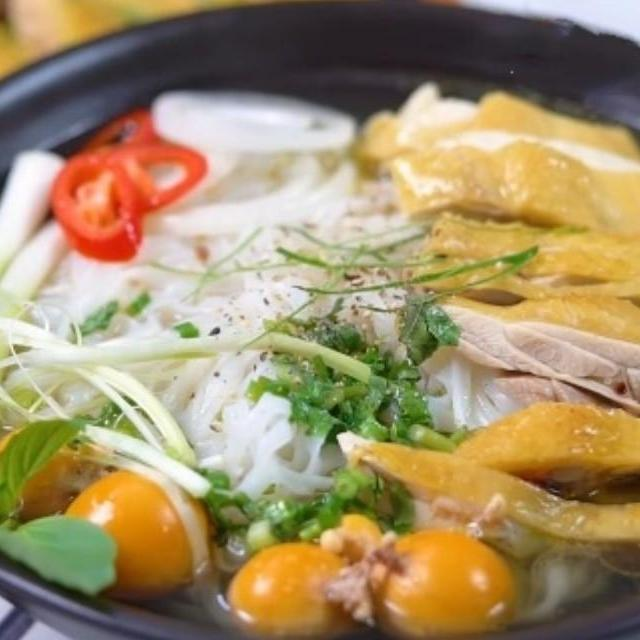banh pho: (24, 138, 524, 508)
pho ga: (0, 32, 640, 640)
thit ga: (386, 280, 640, 464), (382, 126, 640, 294), (329, 424, 640, 562), (395, 205, 640, 377), (346, 72, 640, 193), (431, 393, 640, 503)
trung: (52, 462, 220, 606), (346, 520, 521, 640), (214, 536, 367, 640), (0, 415, 114, 535)
